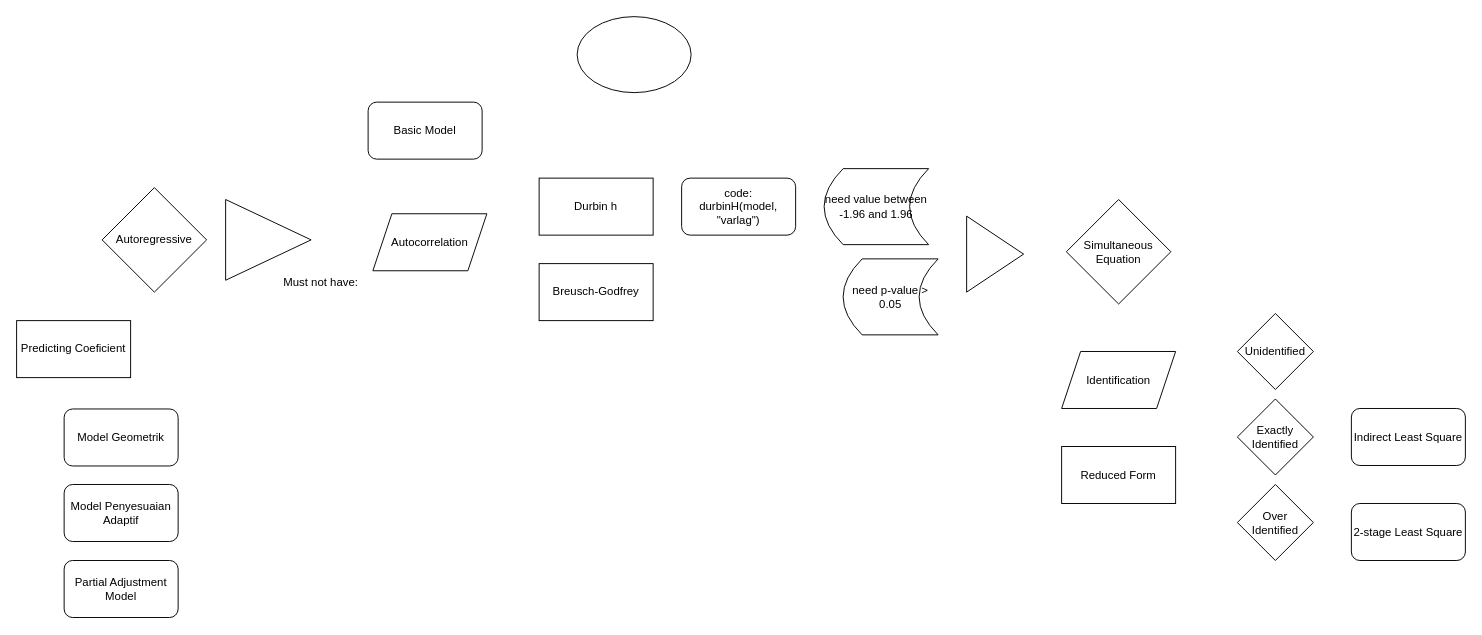
The diagram is 1482 pixels wide and 635 high, and some of its shapes have lost their labels. The shapes that lost their labels are listed below. From the top down, each one's centre as x and y in pixels, then its label:
At point (633, 54): "Time Series".
At point (268, 239): "Assumption".
At point (995, 253): "Remedy".
